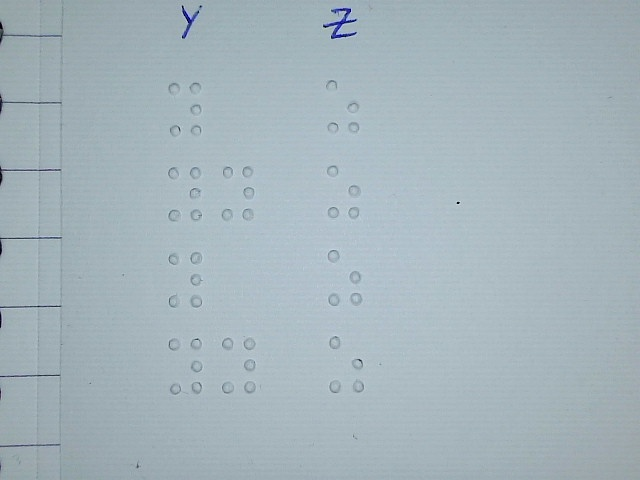Y: (166, 79, 204, 139), (219, 163, 257, 223), (166, 249, 204, 309), (220, 335, 258, 395), (167, 335, 205, 395)
Z: (323, 76, 361, 136), (325, 162, 363, 222), (326, 248, 364, 308), (328, 333, 366, 393)
